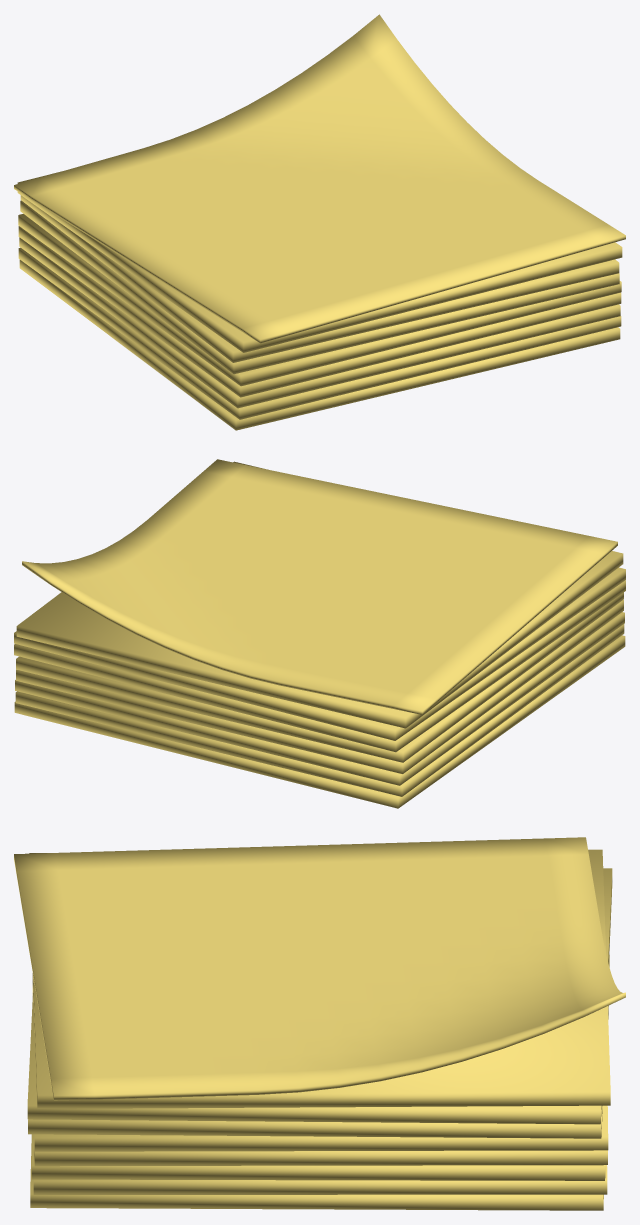
Rendered from PostIt_Deck.fbx.
The picture shows the model from 3 angles, top to bottom: view 1: azimuth 30°, elevation 25°; view 2: azimuth 150°, elevation 25°; view 3: azimuth 270°, elevation 25°; orthographic projection. The views are drawn at different scales.
Visible parts, largest first — view 1: PostIt_Deck; view 2: PostIt_Deck; view 3: PostIt_Deck.
Boxes of the visible parts, x1,y1,x2,y2 form: PostIt_Deck: [14, 14, 625, 430]; PostIt_Deck: [14, 459, 625, 808]; PostIt_Deck: [14, 837, 625, 1210].
Bounding box in the file's own units: 0.0384 × 0.0144 × 0.0384.
